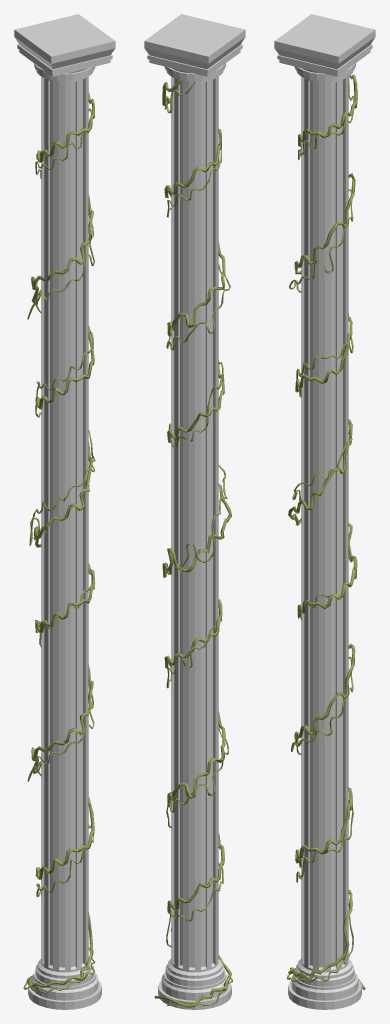
Rendered from pillar-destruction.fbx.
3 renders of one model, left to right at view 1: azimuth 30°, elevation 25°; view 2: azimuth 150°, elevation 25°; view 3: azimuth 330°, elevation 25°, orthographic.
Parts seen in each view (by area): view 1: Circle, vine.001, vine; view 2: Circle, vine.001, vine; view 3: Circle, vine.001, vine.
Part boxes in pixels (<box>): Circle: <box>14,14,115,1009</box>; vine.001: <box>27,92,95,987</box>; vine: <box>23,108,95,993</box>; Circle: <box>144,14,245,1009</box>; vine.001: <box>154,79,231,1007</box>; vine: <box>164,81,232,1005</box>; Circle: <box>274,14,375,1009</box>; vine.001: <box>288,74,365,989</box>; vine: <box>287,77,354,982</box>.
Size of the model in its own units: 320 by 4458 by 334.
